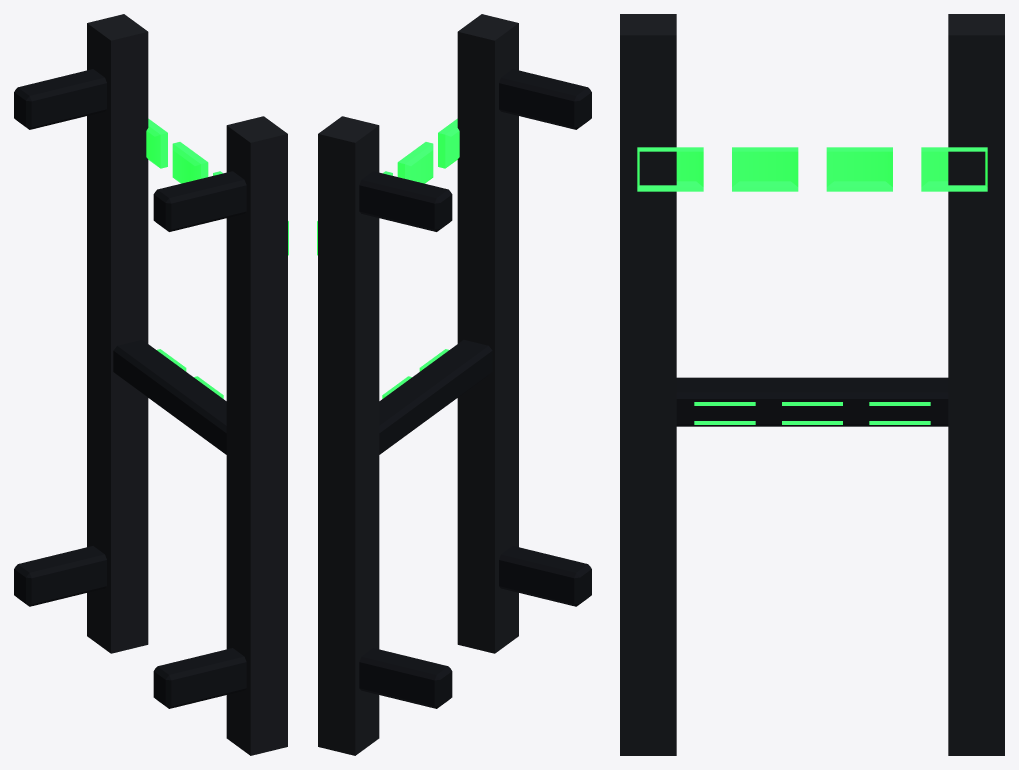
File: ladder_green.glb
3 views of the same model, side by side, from view 1: azimuth 30°, elevation 25°; view 2: azimuth 150°, elevation 25°; view 3: azimuth 270°, elevation 25° (orthographic). The views are drawn at different scales.
Visible parts, largest first — view 1: ladder_green_MID_deco_body, ladder_green_TOP_deco_body, ladder_green_BOT_deco_body, ladder_green_TOP_deco_trim, ladder_green_BOT_deco_trim, ladder_green_MID_deco_trim, ladder_green_TOP_deco_led; view 2: ladder_green_MID_deco_body, ladder_green_TOP_deco_body, ladder_green_BOT_deco_body, ladder_green_TOP_deco_trim, ladder_green_BOT_deco_trim, ladder_green_MID_deco_trim, ladder_green_TOP_deco_led; view 3: ladder_green_MID_deco_body, ladder_green_TOP_deco_body, ladder_green_BOT_deco_body, ladder_green_MID_deco_trim, ladder_green_TOP_deco_led, ladder_green_MID_deco_led.
Boxes of the visible parts, bbox=[...] form: ladder_green_MID_deco_body: bbox=[87, 198, 287, 609]; ladder_green_TOP_deco_body: bbox=[87, 14, 287, 317]; ladder_green_BOT_deco_body: bbox=[87, 490, 287, 755]; ladder_green_TOP_deco_trim: bbox=[14, 69, 246, 231]; ladder_green_BOT_deco_trim: bbox=[14, 546, 246, 708]; ladder_green_MID_deco_trim: bbox=[113, 340, 226, 454]; ladder_green_TOP_deco_led: bbox=[146, 118, 288, 255]; ladder_green_MID_deco_body: bbox=[318, 198, 518, 609]; ladder_green_TOP_deco_body: bbox=[318, 14, 518, 317]; ladder_green_BOT_deco_body: bbox=[318, 490, 518, 755]; ladder_green_TOP_deco_trim: bbox=[359, 69, 591, 231]; ladder_green_BOT_deco_trim: bbox=[359, 546, 591, 708]; ladder_green_MID_deco_trim: bbox=[379, 340, 492, 454]; ladder_green_TOP_deco_led: bbox=[317, 118, 459, 255]; ladder_green_MID_deco_body: bbox=[620, 241, 1004, 584]; ladder_green_TOP_deco_body: bbox=[620, 14, 1004, 241]; ladder_green_BOT_deco_body: bbox=[620, 584, 1004, 755]; ladder_green_MID_deco_trim: bbox=[676, 377, 948, 426]; ladder_green_TOP_deco_led: bbox=[637, 147, 987, 191]; ladder_green_MID_deco_led: bbox=[694, 402, 930, 424].
Size of the model in its own units: 0.134 by 0.63 by 0.305.
